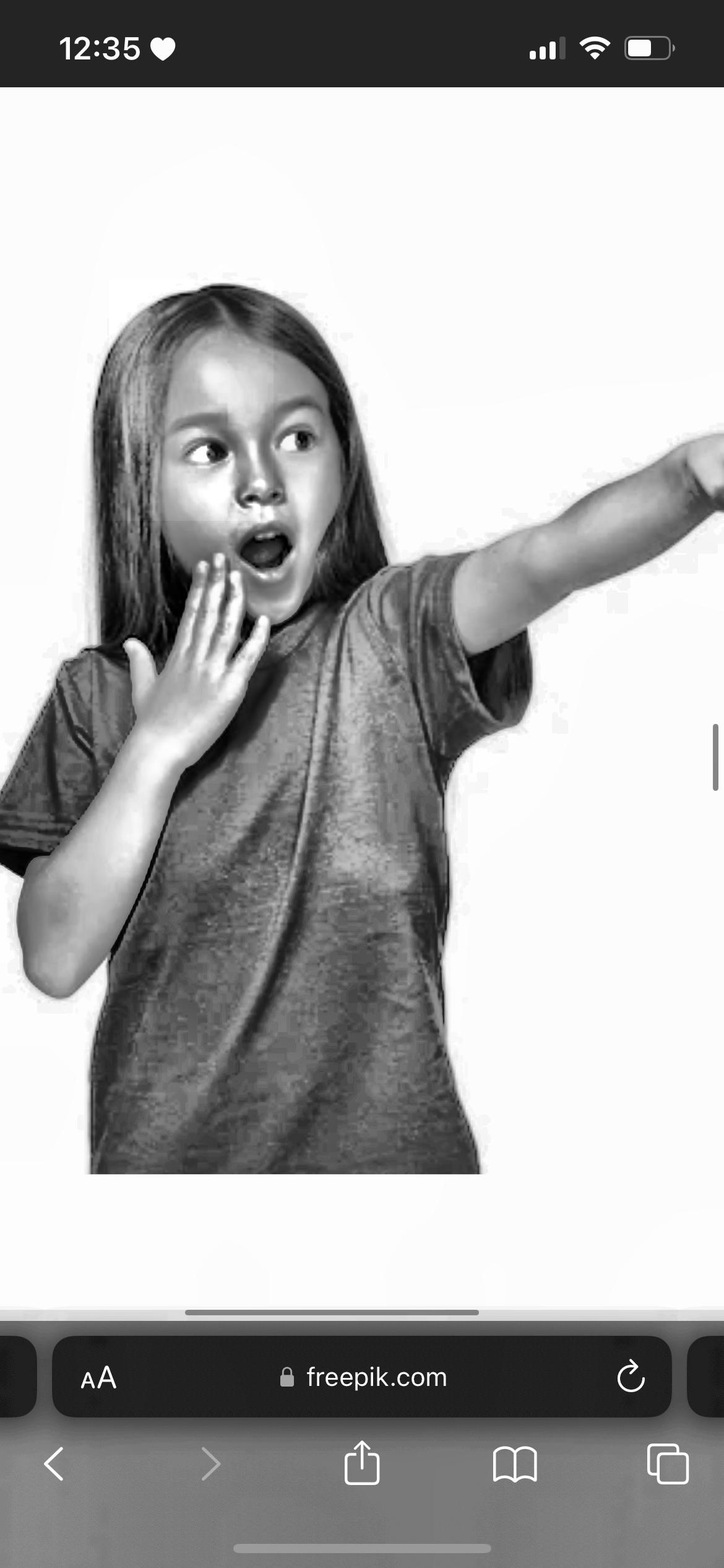surprised: (135, 347, 338, 644)
